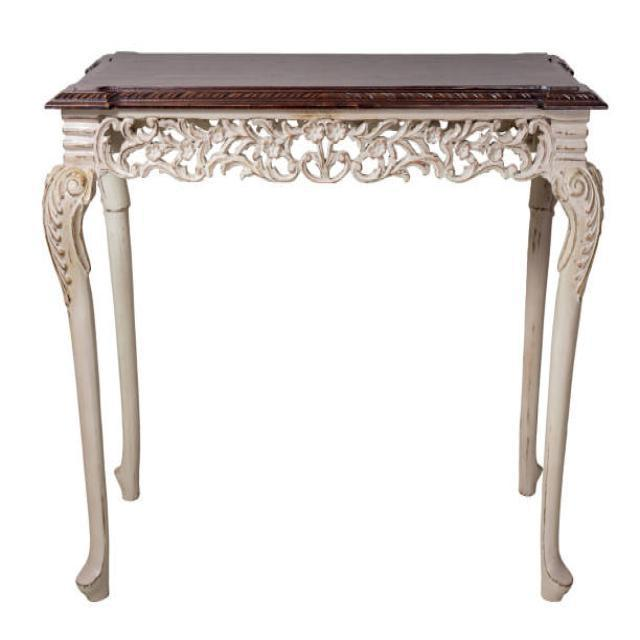table: (41, 49, 608, 604)
